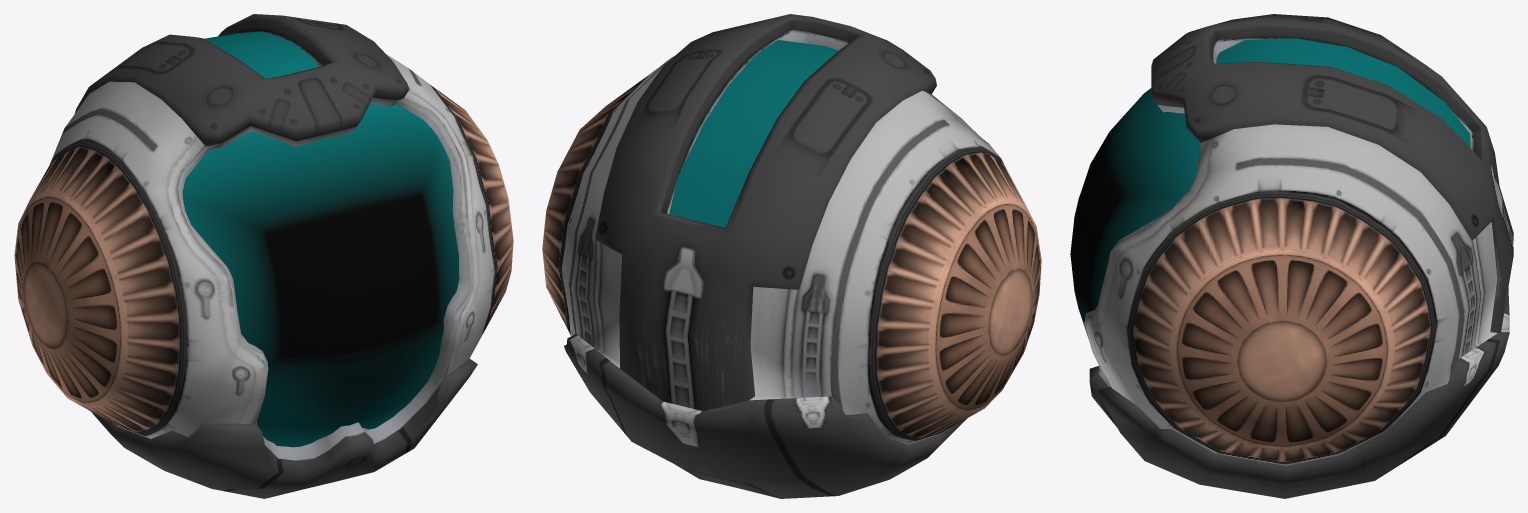
3 views of the same model, side by side, from view 1: azimuth 30°, elevation 25°; view 2: azimuth 150°, elevation 25°; view 3: azimuth 270°, elevation 25° (orthographic).
Parts seen in each view (by area): view 1: MARV_Capsule_Body, MARV_Capsule_Glass; view 2: MARV_Capsule_Body, MARV_Capsule_Glass; view 3: MARV_Capsule_Body, MARV_Capsule_Glass.
Boxes of the visible parts, box(x1,y1,x2,y2) form: MARV_Capsule_Body: box(14, 14, 513, 498); MARV_Capsule_Glass: box(182, 31, 459, 447); MARV_Capsule_Body: box(542, 14, 1041, 498); MARV_Capsule_Glass: box(669, 40, 838, 227); MARV_Capsule_Body: box(1084, 14, 1513, 498); MARV_Capsule_Glass: box(1070, 38, 1470, 337).
Bounding box in the file's own units: 0.3034 × 0.2834 × 0.265.
